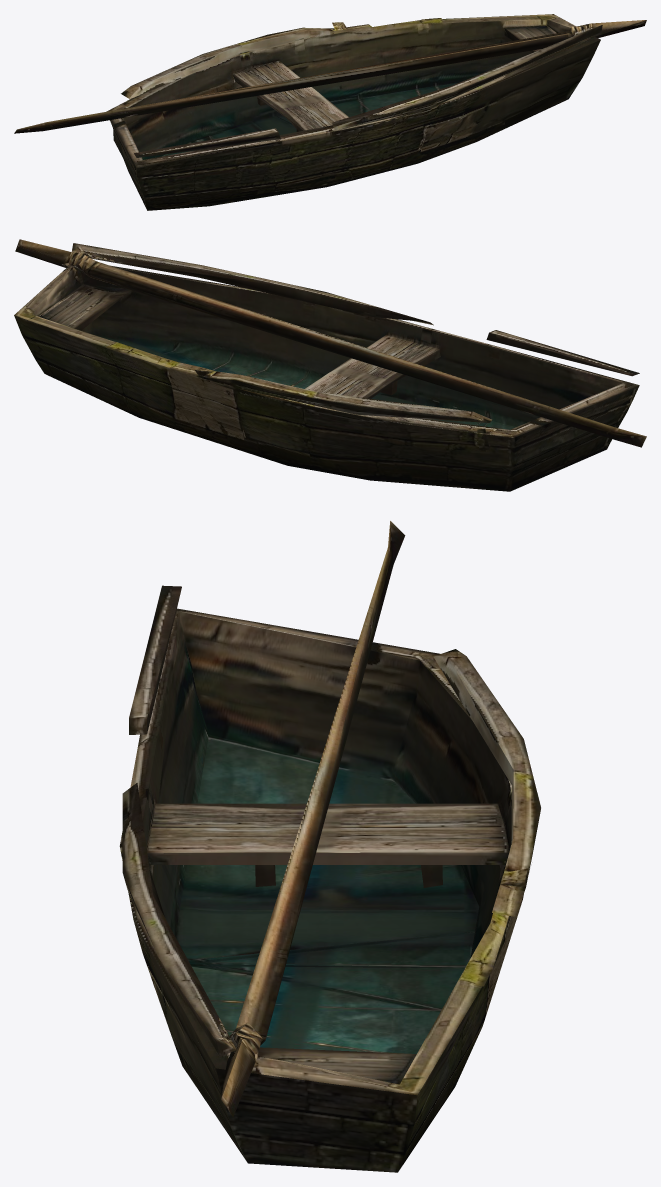
Rendered from act1_kit_v1_fen_punt.glb.
The picture shows the model from 3 angles, top to bottom: view 1: azimuth 30°, elevation 25°; view 2: azimuth 150°, elevation 25°; view 3: azimuth 270°, elevation 25°; orthographic projection. The views are drawn at different scales.
Visible parts, largest first — view 1: A06_5_fen_punt; view 2: A06_5_fen_punt; view 3: A06_5_fen_punt.
Part boxes in pixels (left/top/right/bottom): A06_5_fen_punt: left=14, top=14, right=646, bottom=210; A06_5_fen_punt: left=14, top=239, right=646, bottom=491; A06_5_fen_punt: left=119, top=521, right=540, bottom=1172.
Size of the model in its own units: 0.9993 by 0.132 by 0.3098.
1 material, 1 textured.
